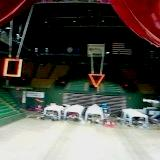Orange_Square_GShape: (2, 58, 22, 77)
Orange_Triangle_Gshape: (88, 74, 104, 87)
